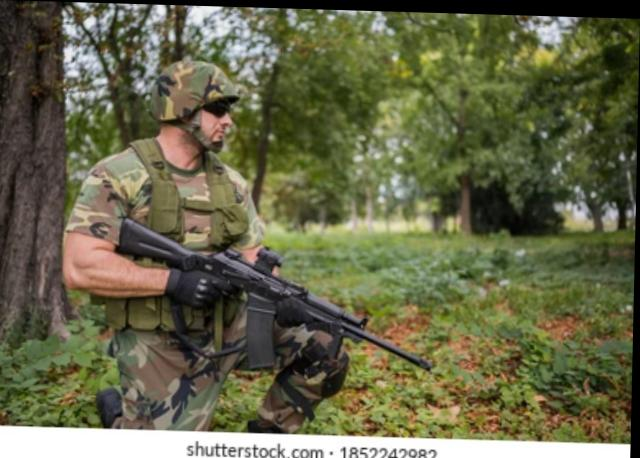other: (57, 56, 289, 418)
